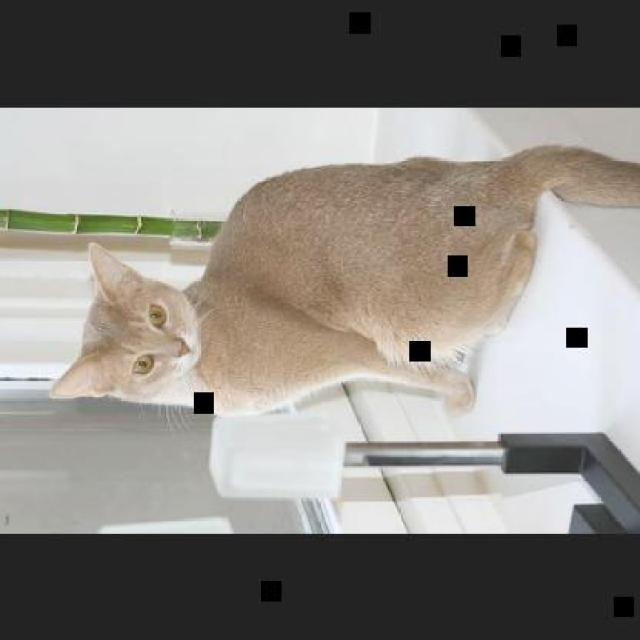unauthorized: (47, 142, 638, 422)
